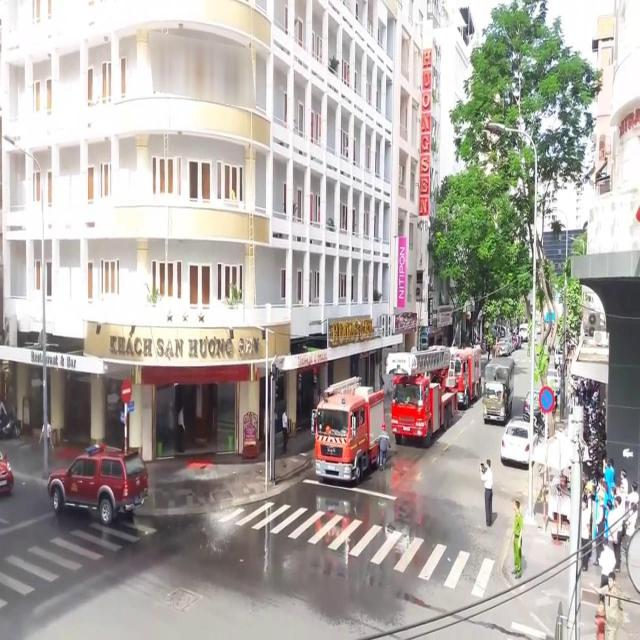car: (47, 444, 148, 524), (500, 417, 537, 467), (523, 390, 542, 422)
truck: (312, 379, 384, 484), (390, 348, 456, 442), (444, 344, 482, 409), (483, 357, 515, 425)
